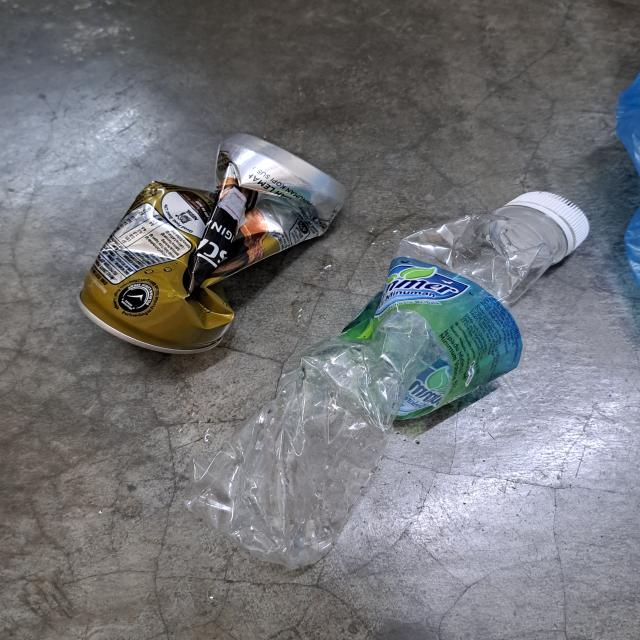can: (80, 122, 339, 355)
plastic bottle: (198, 207, 559, 563)
plastic bottle cap: (506, 190, 596, 258)
